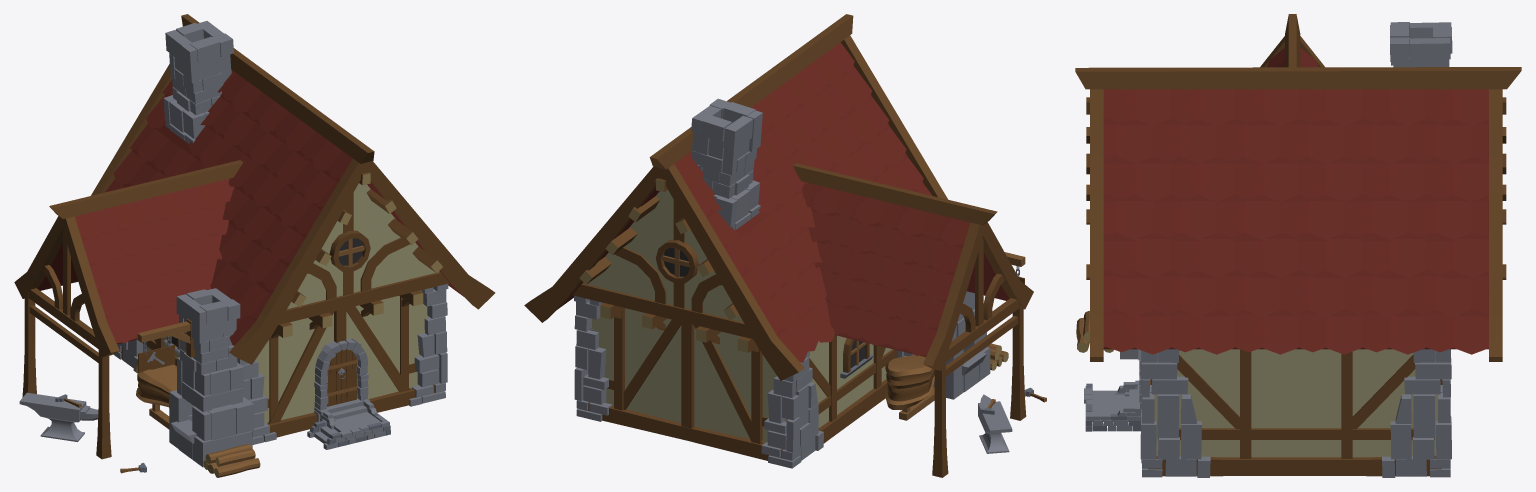
Rendered from blacksmith.glb.
3 renders of one model, left to right at view 1: azimuth 30°, elevation 25°; view 2: azimuth 150°, elevation 25°; view 3: azimuth 270°, elevation 25°, orthographic. The views are drawn at different scales.
Parts seen in each view (by area): view 1: Blacksmith; view 2: Blacksmith; view 3: Blacksmith.
Boxes of the visible parts, x1,y1,x2,y2 form: Blacksmith: [14, 14, 495, 477]; Blacksmith: [524, 14, 1046, 477]; Blacksmith: [1075, 14, 1521, 477].
Size of the model in its own units: 3.89 by 3 by 3.28.
1 material, 1 textured.
